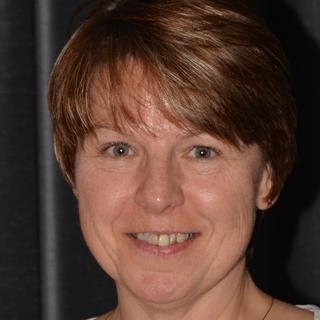eye: (181, 140, 225, 165), (97, 138, 141, 163)
